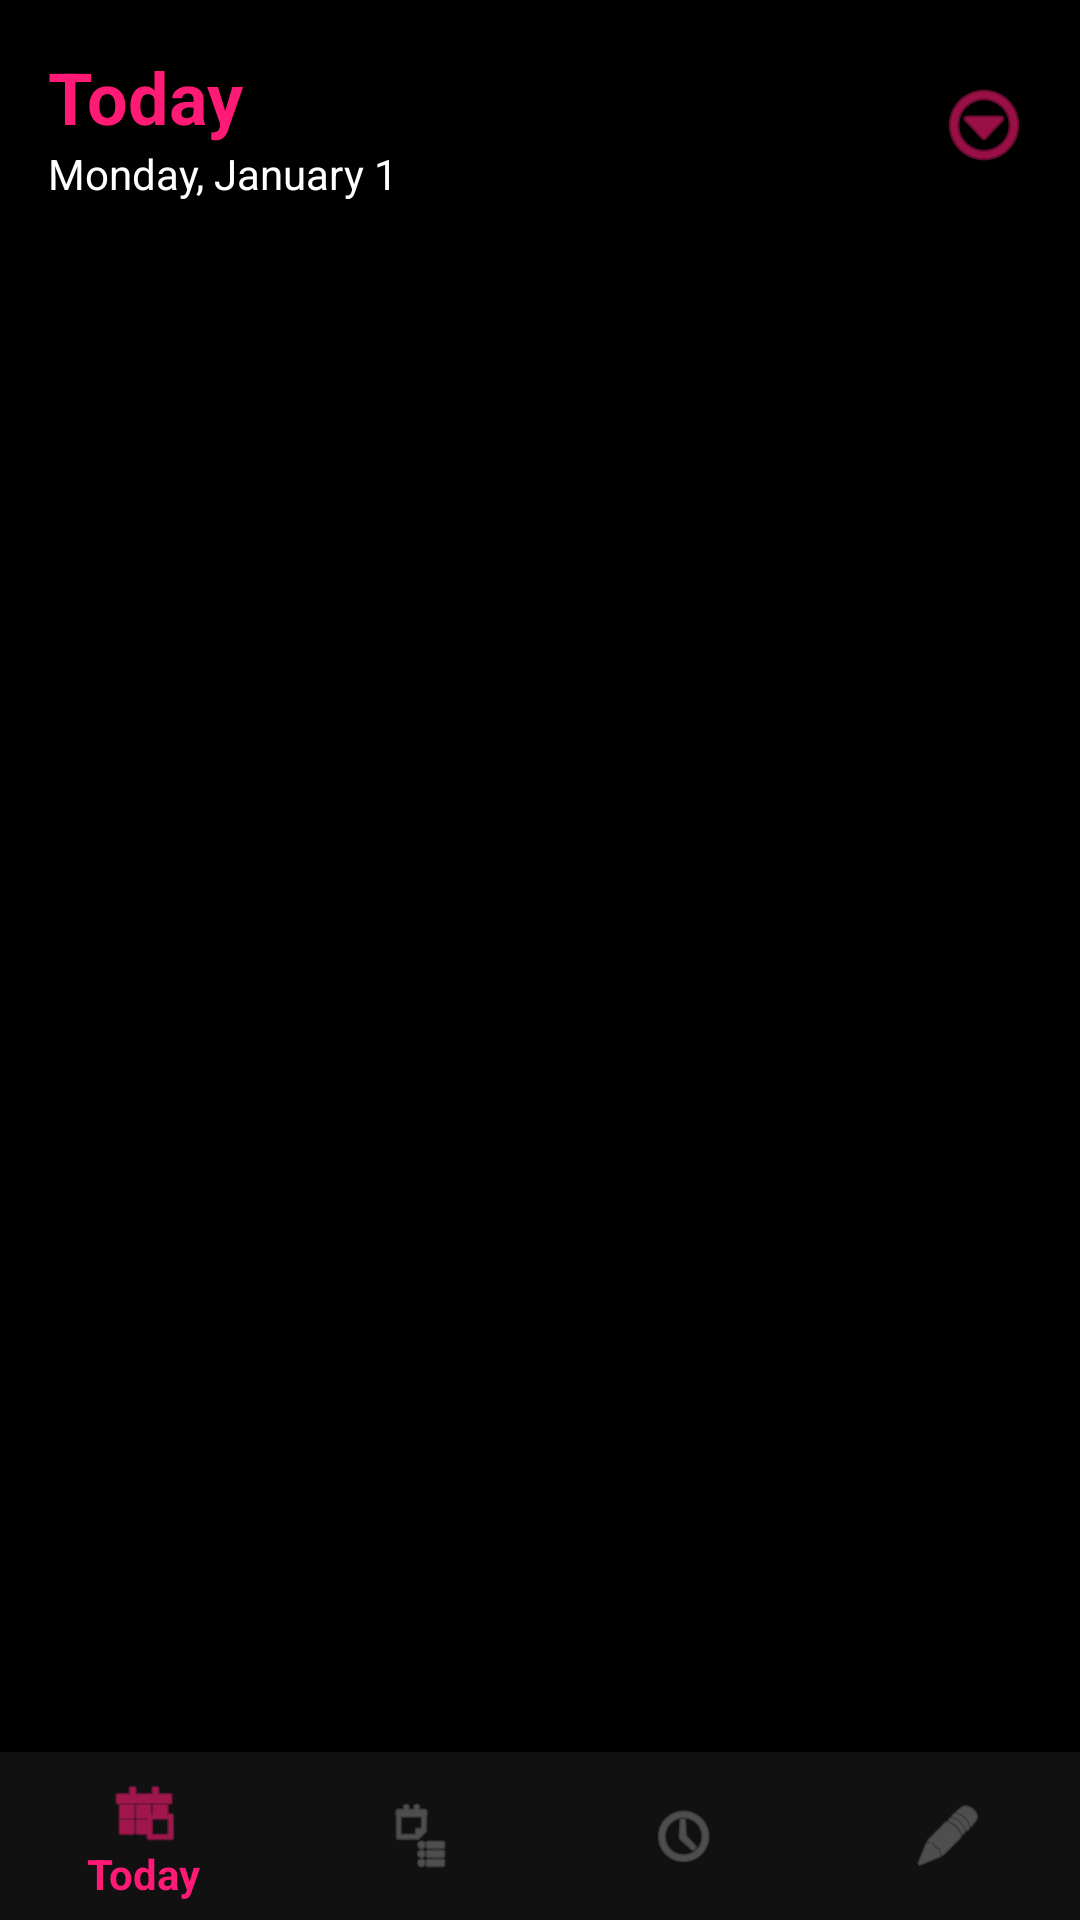

Point at icon controls on the screen. Image size 1080x1920, points as (x,y).
more: (984,125)
